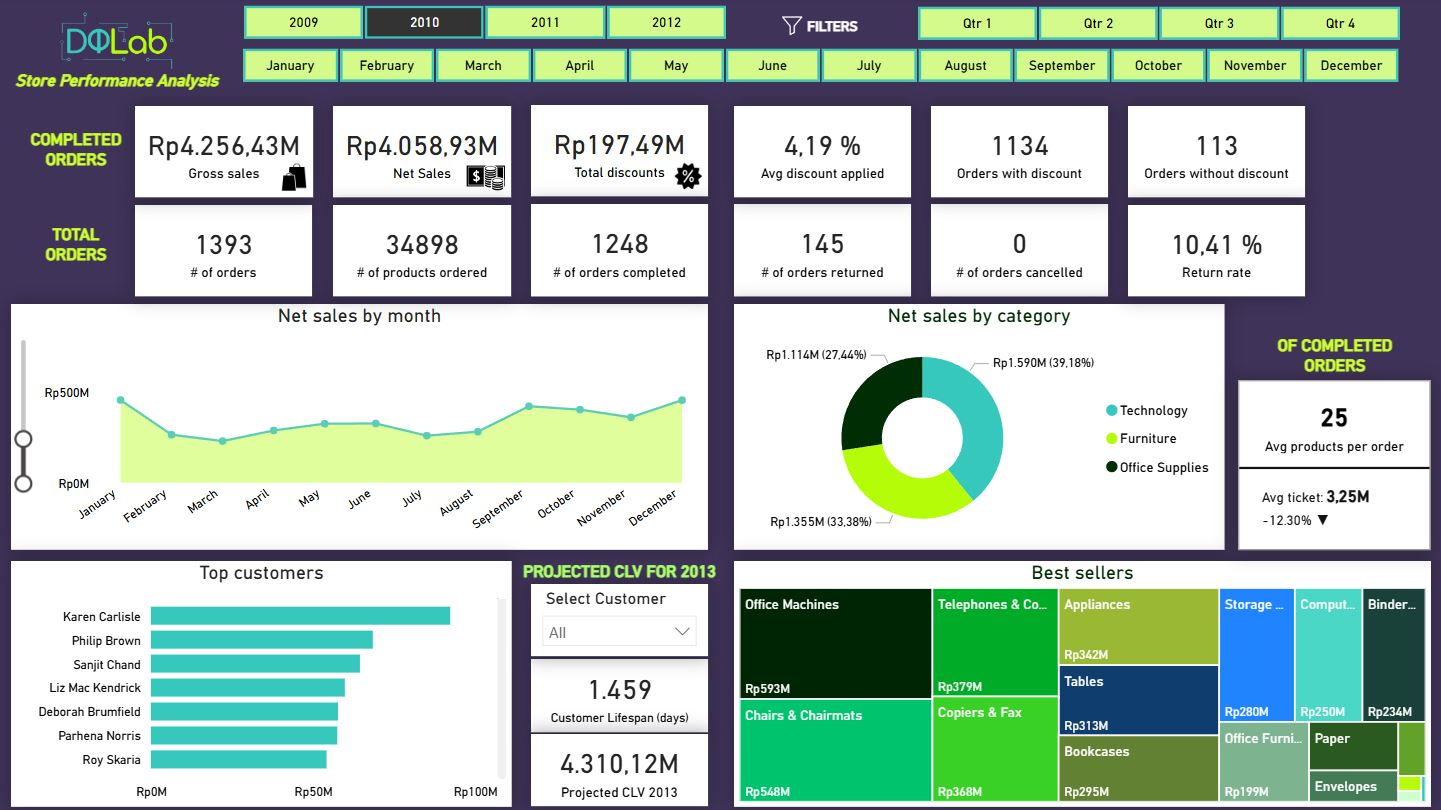

The dashboard page shown, as its layout file describes it:
{"tool":"powerbi","page":{"name":"DQLab Sales Analysis","canvas":[1280,720],"ordinal":0},"visuals":[{"type":"card","fields":{"Values":["clean_data.Net Sales"]},"box":[296.1,95.8,157.8,80.7],"z":0},{"type":"card","fields":{"Values":["clean_data.Suma Descuentos"]},"box":[471.6,95.8,156.9,80.7],"z":1000},{"type":"slicer","fields":{"Values":["Calendar.Date.Variation.Date Hierarchy.Quarter"]},"box":[789.2,0.9,476.9,39],"z":2000},{"type":"slicer","fields":{"Values":["Calendar.Date.Variation.Date Hierarchy.Year"]},"box":[191.5,0,476.9,38.1],"z":3000},{"type":"areaChart","title":"Net sales by month","fields":{"Y":["Sum(clean_data.sales)"],"Category":["Calendar.Date.Variation.Date Hierarchy.Month"]},"box":[10.2,271.4,618.2,218.4],"z":4000},{"type":"card","fields":{"Values":["clean_data.Total Orders"]},"box":[131.1,183.1,146.9,80.9],"z":5000},{"type":"card","fields":{"Values":["clean_data.# of Orders Completed"]},"box":[471.6,182.7,156.9,81.6],"z":6000},{"type":"card","fields":{"Values":["clean_data.# of Orders Returned"]},"box":[651.6,182.7,156.9,81.6],"z":7000},{"type":"card","fields":{"Values":["clean_data.# of Orders Cancelled"]},"box":[826.3,182.7,156.9,81.6],"z":8000},{"type":"card","fields":{"Values":["clean_data.Avg Discount Applied"]},"box":[651.6,95.8,156.9,80.7],"z":9000},{"type":"image","box":[27.9,8.4,154.3,60.4],"z":10000},{"type":"donutChart","title":"Net sales by category","fields":{"Category":["clean_data.product_category"],"Y":["Sum(clean_data.sales)"]},"box":[651.6,271.4,435,218.4],"z":11000},{"type":"treemap","title":"Best sellers","fields":{"Group":["clean_data.product_sub_category"],"Values":["Sum(clean_data.sales)"]},"box":[651.6,499.2,618.2,218.4],"z":12000},{"type":"clusteredBarChart","title":"Top customers","fields":{"Category":["clean_data.customer"],"Y":["Sum(clean_data.sales)"]},"box":[10.2,499.2,444.3,218.4],"z":13000},{"type":"cardVisual","fields":{"Data":["clean_data.Product Ticket Medio"]},"box":[1098.7,304.9,171,151.5],"z":14000},{"type":"card","fields":{"Values":["clean_data.Total Products Ordered"]},"box":[296.5,183.1,158,80.9],"z":15000},{"type":"card","fields":{"Values":["clean_data.gross_sales"]},"box":[131.1,95.8,147.2,80.7],"z":16000},{"type":"image","box":[414.6,136.6,39,44.6],"z":17000},{"type":"image","box":[593.1,141.3,35.3,34.4],"z":18000},{"type":"image","box":[236,178.4,42.8,47.3],"z":19000},{"type":"slicer","fields":{"Values":["Calendar.Date.Variation.Date Hierarchy.Month"]},"box":[191,38.2,1074.4,41.8],"z":20000},{"type":"textbox","box":[689.6,10.9,98.3,42.8],"z":21000},{"type":"card","fields":{"Values":["clean_data.Discount Orders"]},"box":[826.3,95.8,156.9,80.7],"z":22000},{"type":"image","box":[685.9,10.9,33.7,28.2],"z":23000},{"type":"card","fields":{"Values":["clean_data.No Discount Orders"]},"box":[1001.1,95.7,157.1,80.9],"z":24000},{"type":"card","fields":{"Values":["clean_data.Return Rate"]},"box":[1001.1,183.1,157.1,80.9],"z":25000},{"type":"card","fields":{"Values":["clean_data.Avg Customer Lifespan"]},"box":[471.3,586.6,157.1,64.1],"z":26000},{"type":"card","fields":{"Values":["clean_data.CLV"]},"box":[471.3,653.5,157.1,64.1],"z":27000},{"type":"textbox","box":[0,59.5,209.2,40.9],"z":28000},{"type":"slicer","fields":{"Values":["clean_data.customer"]},"box":[471.3,519.6,157.1,64.1],"z":29000},{"type":"textbox","box":[451.8,495.5,196.1,40.9],"z":30000}]}

Visuals, with their boxes in screenshot pixels (x1, y1, x2, y2), scaled from the page's 1280x720 canvas onto the 1441x810 screenshot:
card - clean_data.Net Sales: bbox=(333, 108, 511, 199)
card - clean_data.Suma Descuentos: bbox=(531, 108, 708, 199)
slicer - Calendar.Date.Variation.Date Hierarchy.Quarter: bbox=(888, 1, 1425, 45)
slicer - Calendar.Date.Variation.Date Hierarchy.Year: bbox=(216, 0, 752, 43)
"Net sales by month" areaChart: bbox=(11, 305, 707, 551)
card - clean_data.Total Orders: bbox=(148, 206, 313, 297)
card - clean_data.# of Orders Completed: bbox=(531, 206, 708, 297)
card - clean_data.# of Orders Returned: bbox=(734, 206, 910, 297)
card - clean_data.# of Orders Cancelled: bbox=(930, 206, 1107, 297)
card - clean_data.Avg Discount Applied: bbox=(734, 108, 910, 199)
image: bbox=(31, 9, 205, 77)
"Net sales by category" donutChart: bbox=(734, 305, 1223, 551)
"Best sellers" treemap: bbox=(734, 562, 1430, 807)
"Top customers" clusteredBarChart: bbox=(11, 562, 512, 807)
cardVisual - clean_data.Product Ticket Medio: bbox=(1237, 343, 1429, 513)
card - clean_data.Total Products Ordered: bbox=(334, 206, 512, 297)
card - clean_data.gross_sales: bbox=(148, 108, 313, 199)
image: bbox=(467, 154, 511, 204)
image: bbox=(668, 159, 707, 198)
image: bbox=(266, 201, 314, 254)
slicer - Calendar.Date.Variation.Date Hierarchy.Month: bbox=(215, 43, 1425, 90)
textbox: bbox=(776, 12, 887, 60)
card - clean_data.Discount Orders: bbox=(930, 108, 1107, 199)
image: bbox=(772, 12, 810, 44)
card - clean_data.No Discount Orders: bbox=(1127, 108, 1304, 199)
card - clean_data.Return Rate: bbox=(1127, 206, 1304, 297)
card - clean_data.Avg Customer Lifespan: bbox=(531, 660, 707, 732)
card - clean_data.CLV: bbox=(531, 735, 707, 807)
textbox: bbox=(0, 67, 236, 113)
slicer - clean_data.customer: bbox=(531, 585, 707, 657)
textbox: bbox=(509, 557, 729, 603)
